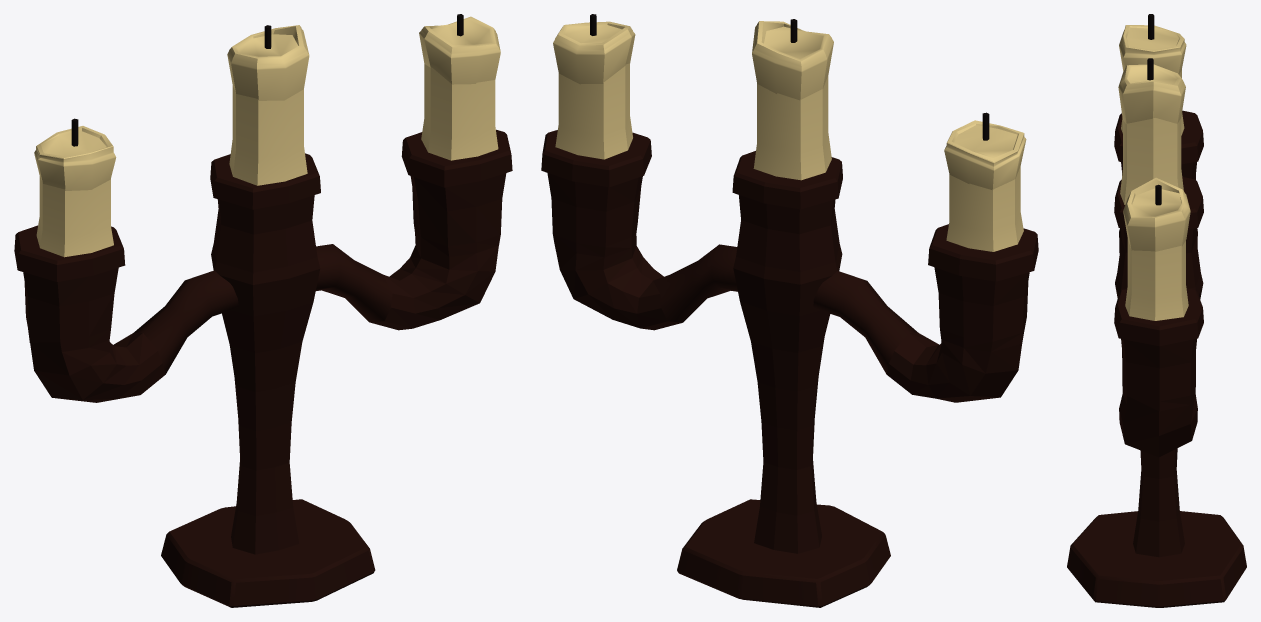
File: CANDELABRA.FBX
3 renders of one model, left to right at view 1: azimuth 30°, elevation 25°; view 2: azimuth 150°, elevation 25°; view 3: azimuth 270°, elevation 25°, orthographic. The views are drawn at different scales.
Parts seen in each view (by area): view 1: CENTER, LEFT, RIGHT, CANDLE BASE, CANDLE MIDDLE, CANDLE RIGHT, CANDLE LEFT; view 2: CENTER, LEFT, RIGHT, CANDLE BASE, CANDLE MIDDLE, CANDLE RIGHT, CANDLE LEFT; view 3: CANDLE BASE, RIGHT, CANDLE RIGHT, CANDLE MIDDLE, CENTER, CANDLE LEFT, LEFT.
Boxes of the visible parts, x1,y1,x2,y2 form: CENTER: (210, 153, 320, 554); LEFT: (14, 225, 238, 402); RIGHT: (316, 129, 512, 330); CANDLE BASE: (161, 499, 375, 607); CANDLE MIDDLE: (227, 25, 309, 185); CANDLE RIGHT: (419, 16, 500, 160); CANDLE LEFT: (34, 126, 116, 257); CENTER: (732, 151, 842, 553); LEFT: (813, 224, 1038, 402); RIGHT: (541, 130, 737, 330); CANDLE BASE: (677, 499, 890, 607); CANDLE MIDDLE: (752, 21, 833, 180); CANDLE RIGHT: (553, 21, 635, 159); CANDLE LEFT: (944, 120, 1026, 251); CANDLE BASE: (1067, 511, 1246, 607); RIGHT: (1114, 288, 1203, 457); CANDLE RIGHT: (1123, 177, 1190, 320); CANDLE MIDDLE: (1118, 64, 1185, 204); CENTER: (1114, 177, 1203, 557); CANDLE LEFT: (1119, 25, 1186, 135); LEFT: (1114, 110, 1203, 252).
Size of the model in its own units: 205 by 217 by 69.49.
